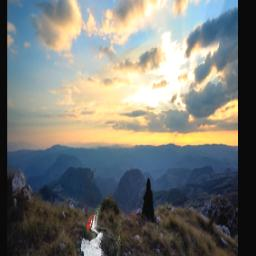Woodpecker: (78, 205, 122, 256)
